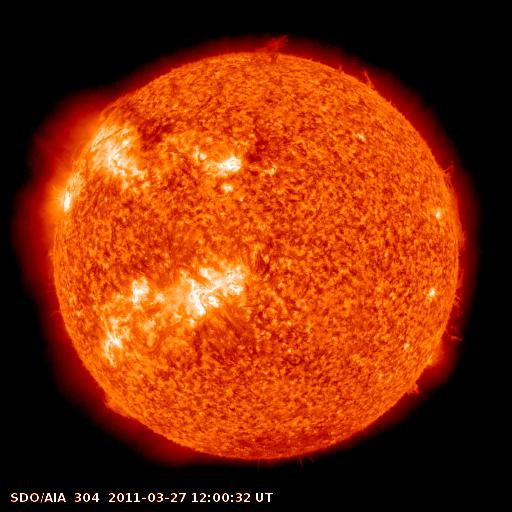prominence: (434, 151, 476, 251), (425, 262, 475, 346), (242, 26, 301, 68), (331, 54, 383, 96), (90, 87, 139, 125), (98, 391, 138, 425), (395, 372, 431, 404)
